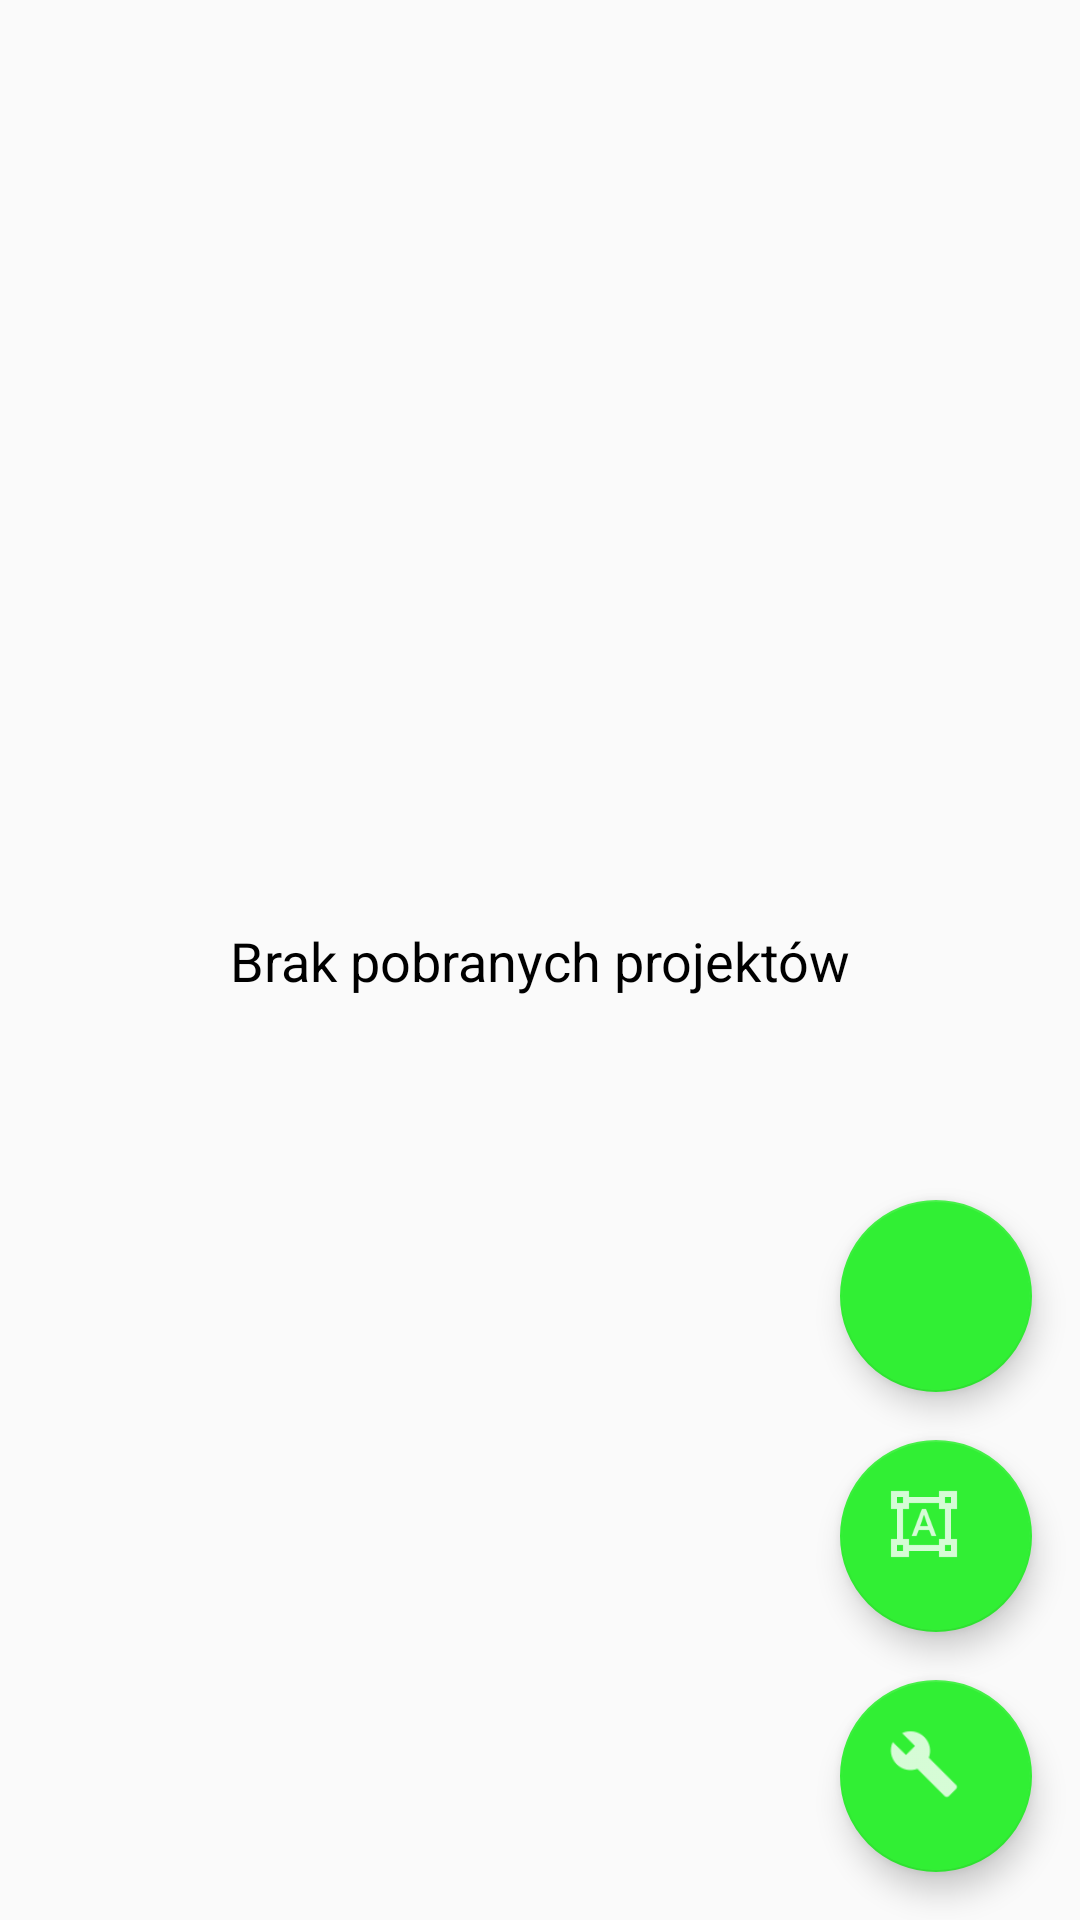

Where icons sit on this 1080*1920 app screen, as (x1, y1, x2, y2):
settings: (840, 1680, 1032, 1872)
